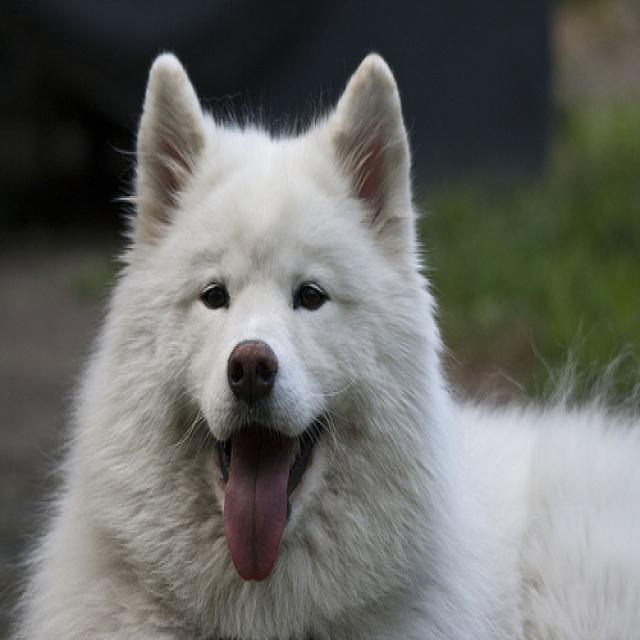dog-samoyed: (4, 37, 637, 636)
